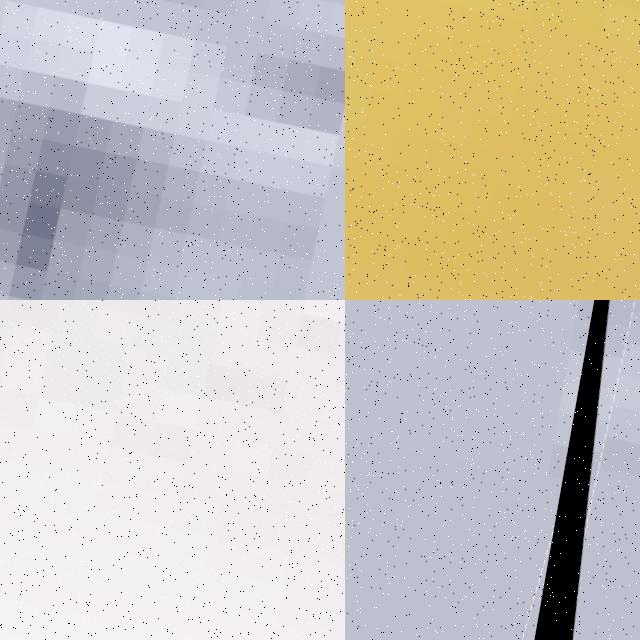drone: (0, 300, 345, 640), (0, 0, 345, 300), (345, 0, 640, 300), (523, 300, 640, 640)
